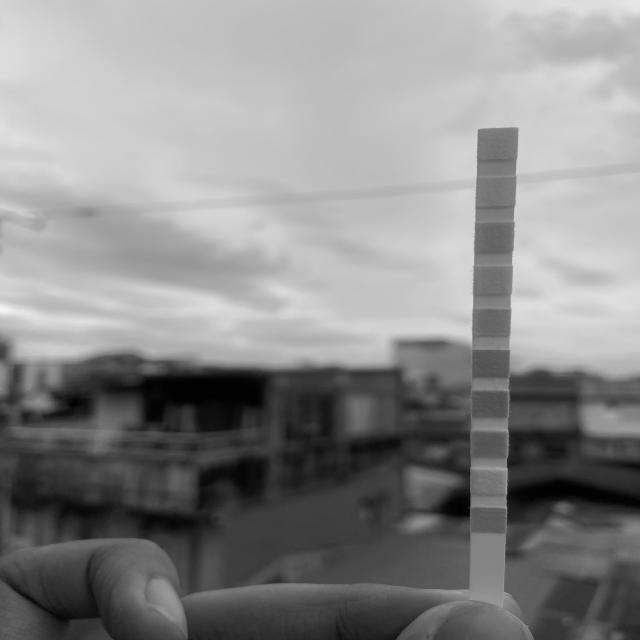Bilirubin: (472, 470, 506, 495)
Blood: (474, 351, 508, 377)
Glucose: (471, 508, 506, 533)
Ketone: (472, 432, 507, 458)
Leukocytes: (481, 131, 516, 158)
Nitrite: (479, 179, 514, 205)
Protein: (475, 266, 511, 293)
SpGravity: (472, 391, 507, 416)
Urobilinogen: (478, 224, 512, 250)
background: (0, 0, 640, 640)
pH: (474, 309, 510, 335)
strip: (469, 128, 518, 609)
